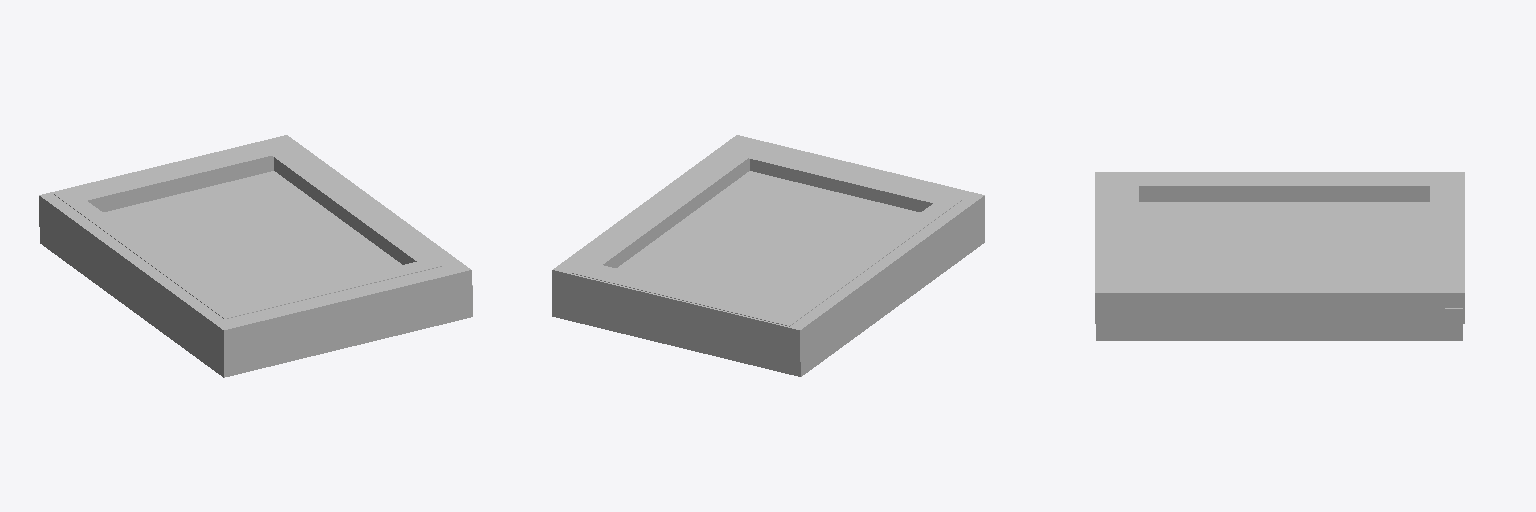
The model's file is Frame2.obj.
The picture shows the model from 3 angles: view 1: azimuth 30°, elevation 25°; view 2: azimuth 150°, elevation 25°; view 3: azimuth 270°, elevation 25°; orthographic projection.
Parts seen in each view (by area): view 1: pCube5, pCube6, pCube8; view 2: pCube5, pCube6, pCube8; view 3: pCube5, pCube6, pCube8.
Boxes of the visible parts, x1=… form: pCube5: x1=40, y1=171, x2=472, y2=377; pCube6: x1=39, y1=135, x2=471, y2=361; pCube8: x1=53, y1=139, x2=442, y2=318; pCube5: x1=552, y1=171, x2=984, y2=376; pCube6: x1=552, y1=135, x2=984, y2=361; pCube8: x1=571, y1=147, x2=961, y2=326; pCube5: x1=1096, y1=202, x2=1462, y2=340; pCube6: x1=1095, y1=172, x2=1464, y2=323; pCube8: x1=1117, y1=177, x2=1461, y2=283.
Bounding box in the file's own units: 8.22 × 1.52 × 10.56.